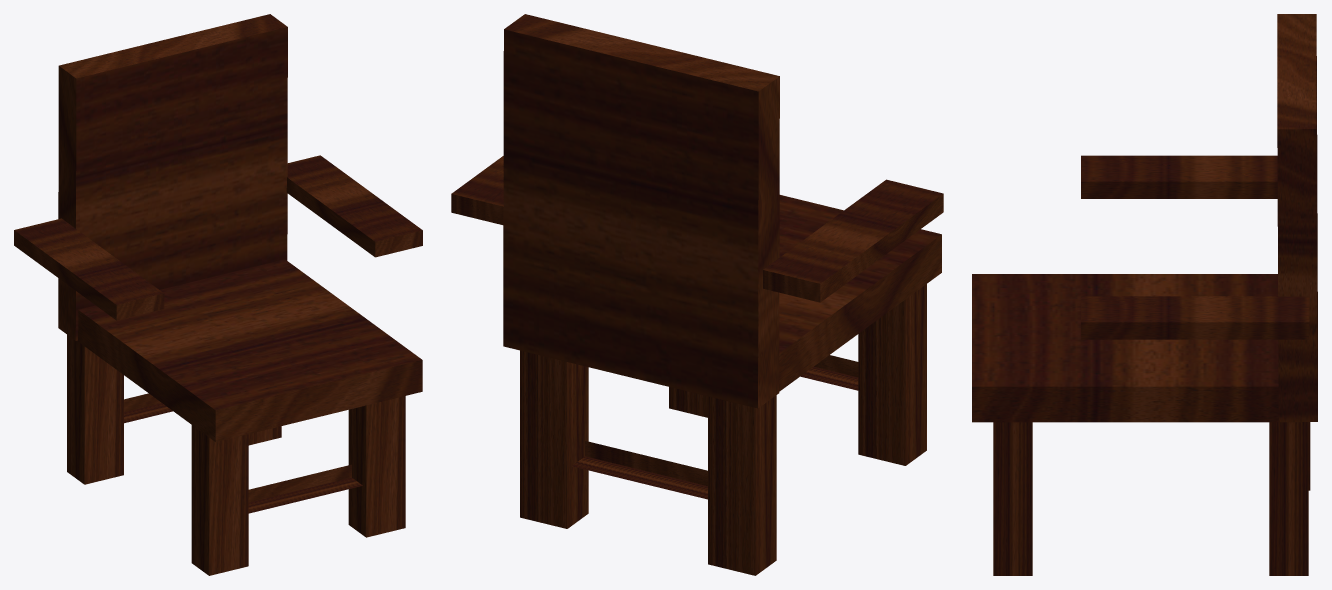
File: chair.obj
3 views of the same model, side by side, from view 1: azimuth 30°, elevation 25°; view 2: azimuth 150°, elevation 25°; view 3: azimuth 270°, elevation 25° (orthographic). The views are drawn at different scales.
Parts seen in each view (by area): view 1: Chair; view 2: Chair; view 3: Chair.
Boxes of the visible parts, x1,y1,x2,y2 form: Chair: [14, 14, 422, 575]; Chair: [451, 14, 943, 575]; Chair: [972, 14, 1317, 575].
Bounding box in the file's own units: 1.38 × 1.75 × 1.21.
